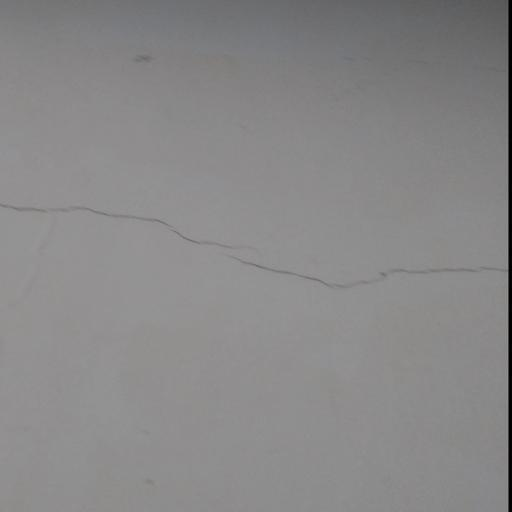minor_crack: (0, 177, 512, 299)
